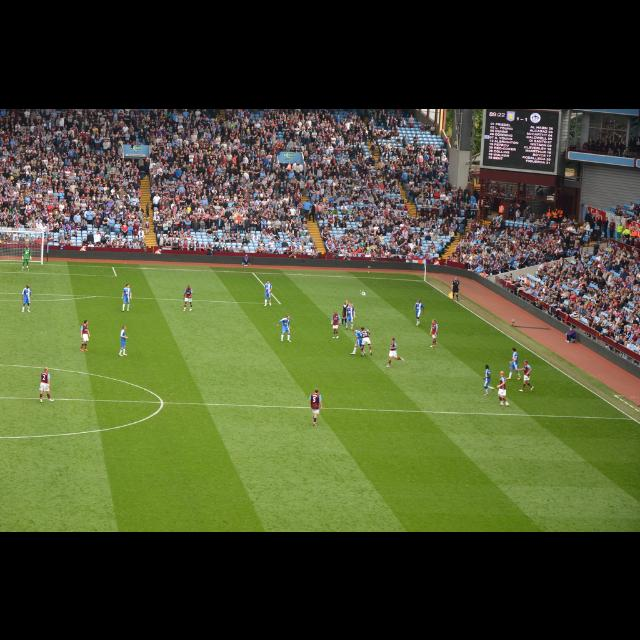Football: (360, 290, 364, 294)
